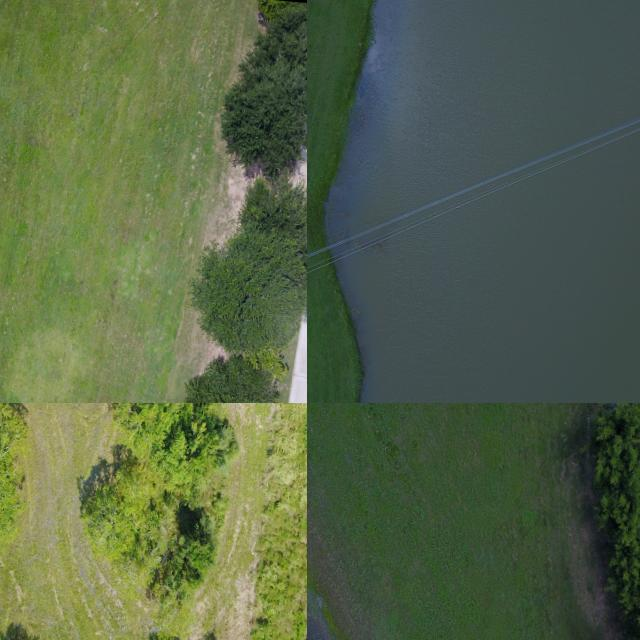fire: (338, 131, 640, 403), (325, 0, 640, 239)
